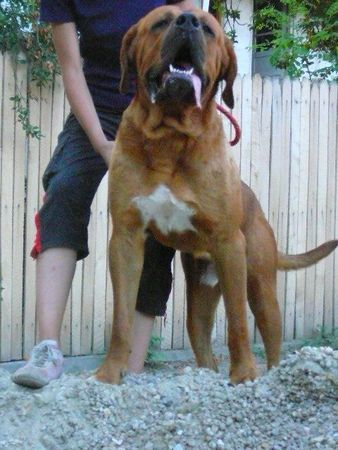person: (10, 0, 192, 389)
tosa_inu: (85, 4, 338, 387)
